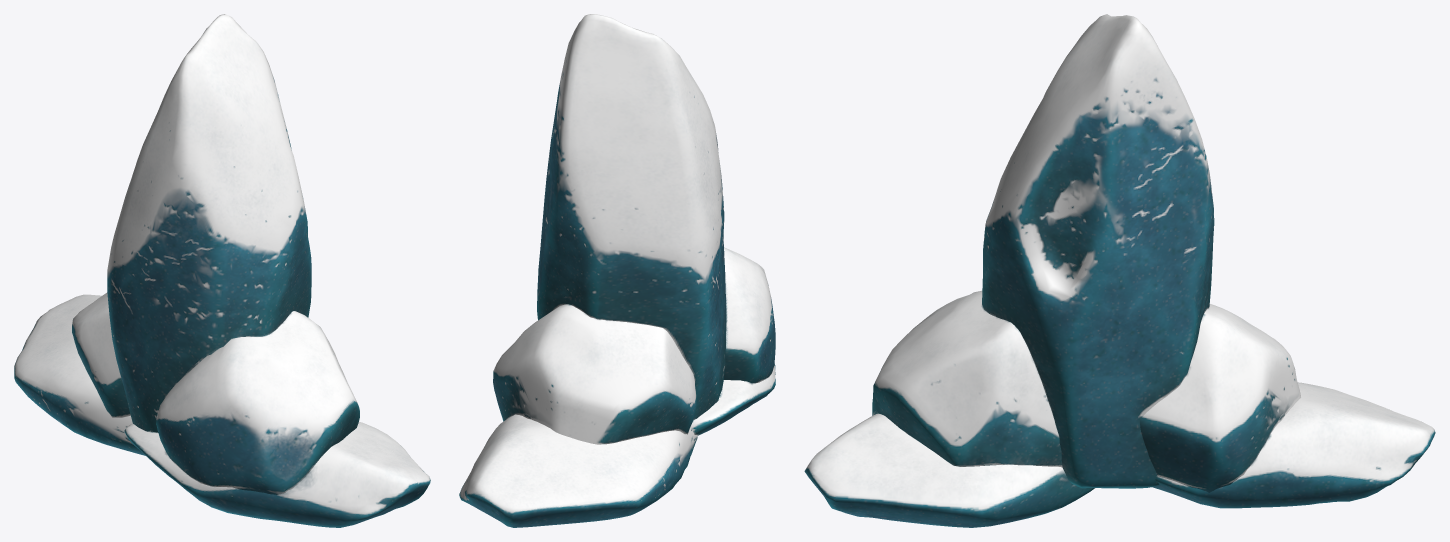
Rendered from snowy_ice.glb.
The picture shows the model from 3 angles, left to right: view 1: azimuth 30°, elevation 25°; view 2: azimuth 150°, elevation 25°; view 3: azimuth 270°, elevation 25°; orthographic projection. The views are drawn at different scales.
Visible parts, largest first — view 1: Object_2; view 2: Object_2; view 3: Object_2.
Boxes of the visible parts, <box> form: Object_2: <box>14,14,430,527</box>; Object_2: <box>459,14,775,527</box>; Object_2: <box>804,14,1435,527</box>.
Bounding box in the file's own units: 2.31 × 4.26 × 5.1.
Materials: 1 (1 with a texture image).
